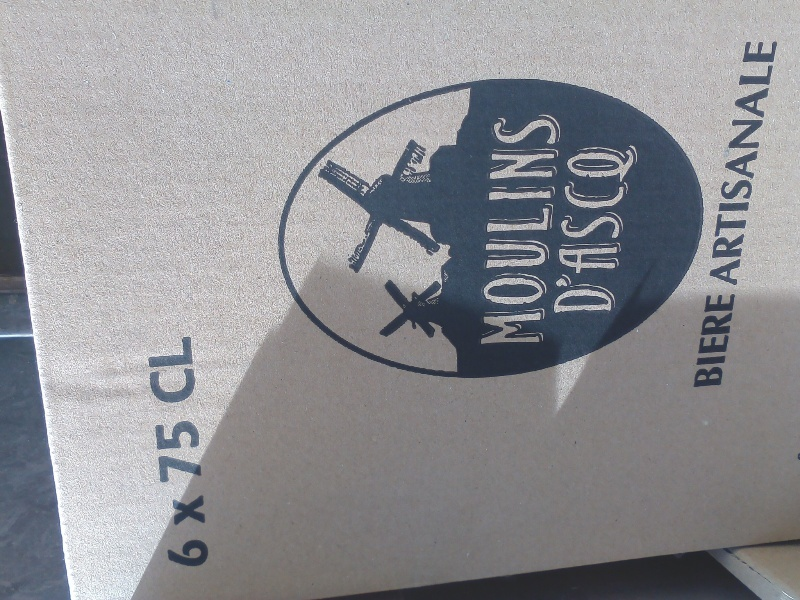text: (753, 38, 768, 290), (497, 113, 512, 345), (513, 113, 528, 345), (529, 113, 544, 345), (545, 113, 560, 345), (769, 38, 781, 290), (577, 142, 592, 320), (593, 142, 608, 320), (609, 142, 624, 320), (742, 38, 752, 290), (625, 142, 639, 320), (487, 113, 496, 345), (721, 292, 736, 388), (568, 142, 576, 320), (707, 292, 720, 388), (161, 416, 176, 489), (177, 416, 192, 489), (145, 335, 160, 405), (161, 335, 176, 405), (177, 335, 192, 405), (193, 416, 206, 489), (561, 113, 565, 345), (177, 490, 192, 531), (193, 490, 208, 531), (177, 536, 192, 573), (193, 536, 208, 573), (153, 416, 160, 489), (193, 335, 199, 405), (168, 536, 176, 573), (169, 490, 176, 531), (209, 536, 212, 573), (737, 292, 738, 388), (209, 490, 210, 531)
